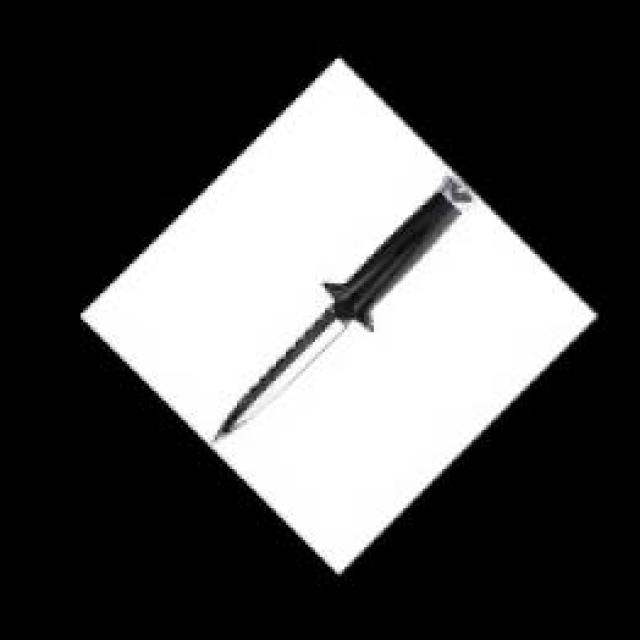knife: (205, 165, 484, 447)
